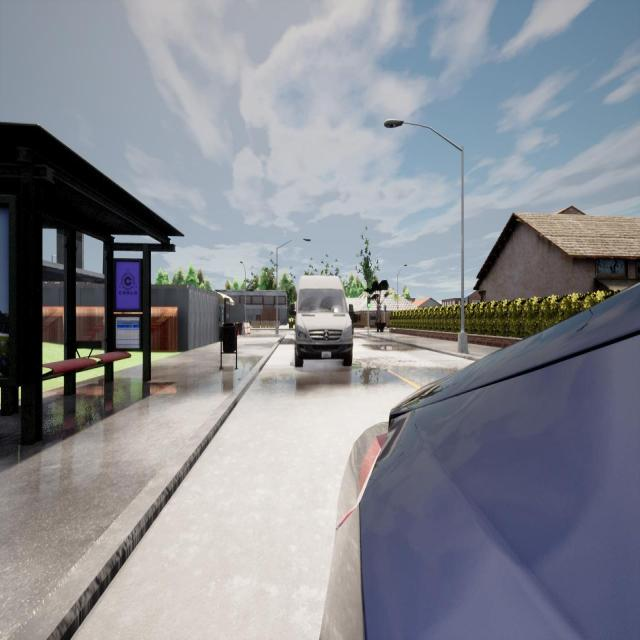Vehicle: (321, 285, 640, 639), (289, 276, 354, 368)
traffic_light: (368, 296, 370, 308)
